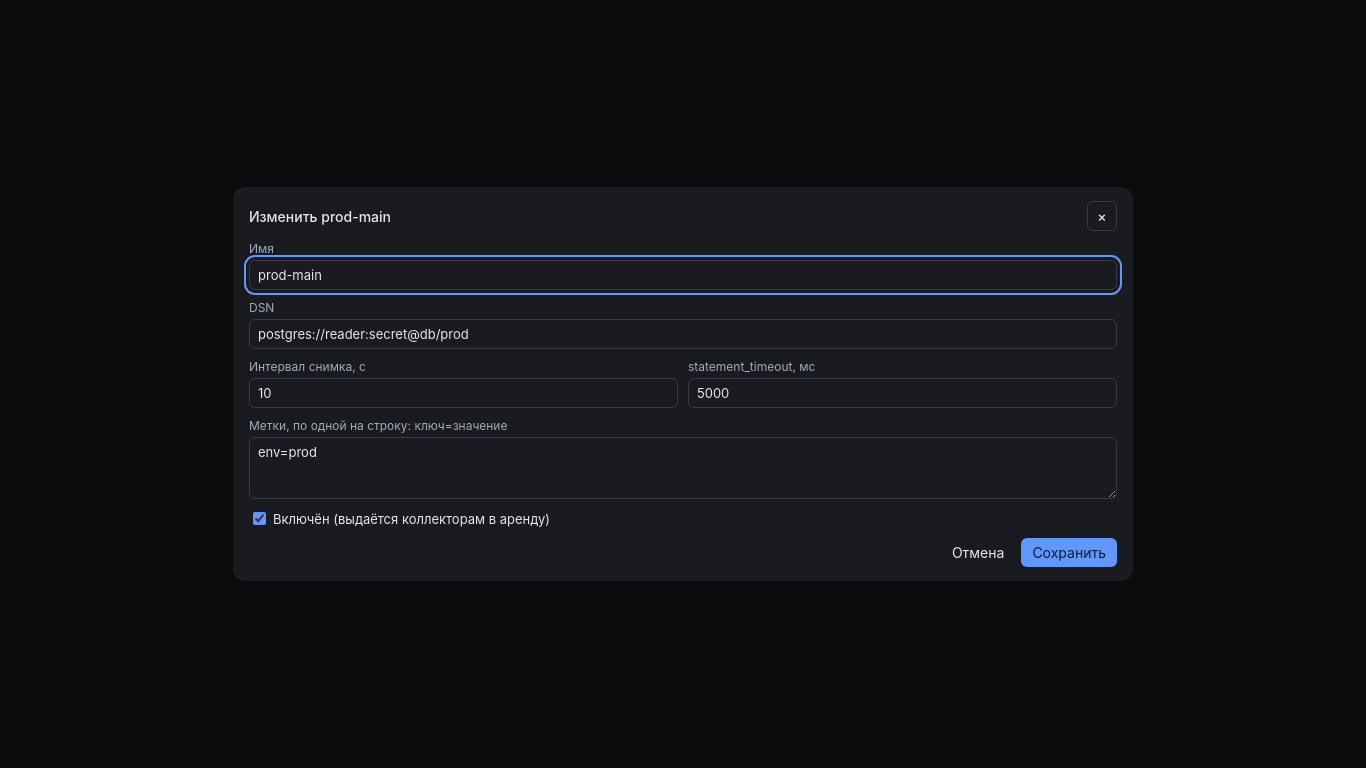
Test: keeps edit draft on failed save: {}
This screenshot has width=1366, height=768.
Click the button "Сохранить" at (1069, 552), box top-left (1021, 538), bottom-right (1117, 567)
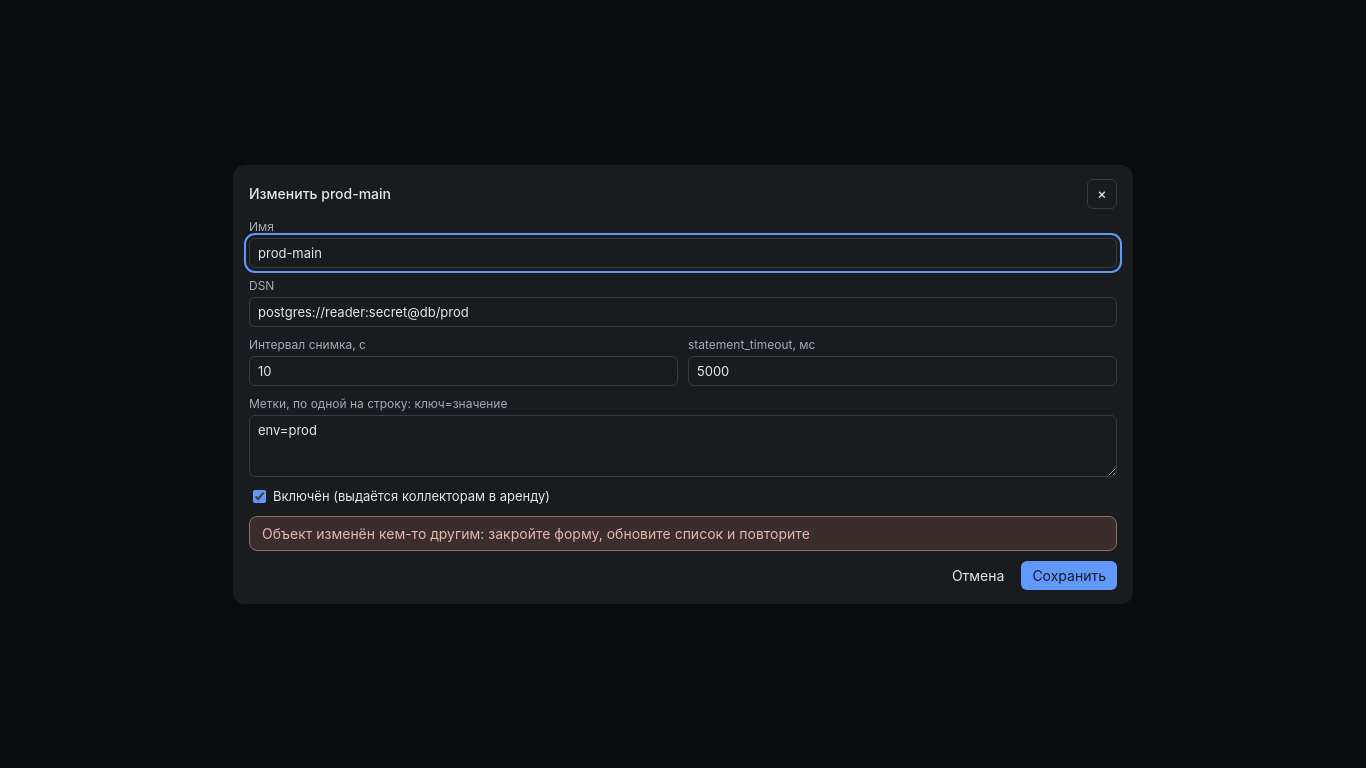
Expected: the field labelled "Имя" holds "prod-main", top-left (249, 238), bottom-right (1117, 268)
Expected: the text "Объект изменён" is shown, top-left (262, 524), bottom-right (810, 542)
